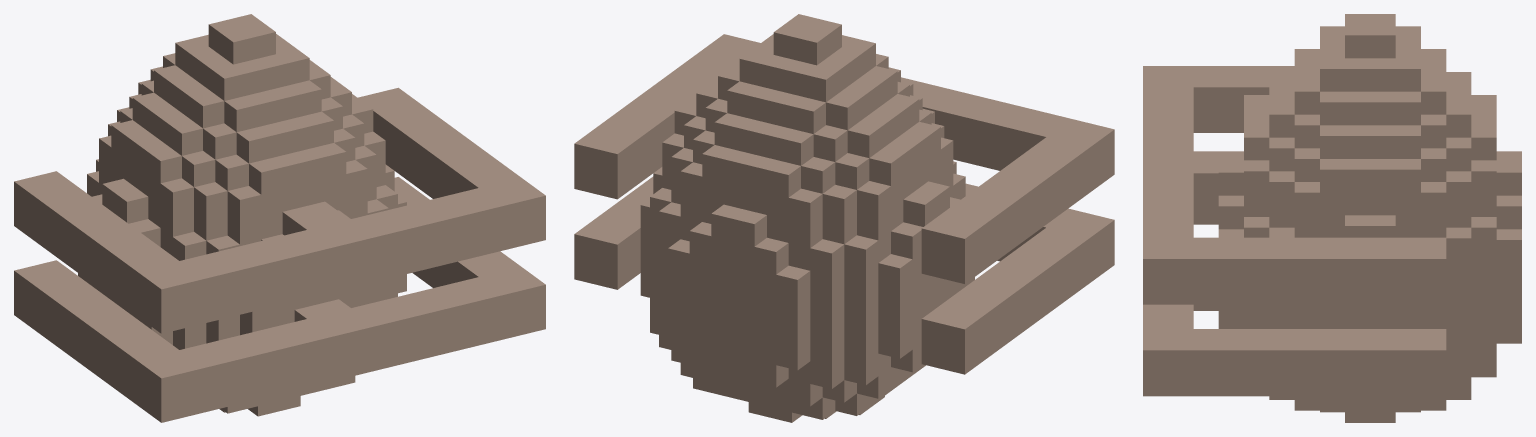
Rendered from Bone_Egg.glb.
The picture shows the model from 3 angles, left to right: view 1: azimuth 30°, elevation 25°; view 2: azimuth 150°, elevation 25°; view 3: azimuth 270°, elevation 25°; orthographic projection. The views are drawn at different scales.
Parts seen in each view (by area): view 1: Cube_copy_copy_copy_copy_copy_copy_copy_copy_copy_copy_copy_ (×47), Cube_copy_copy_copy_7 copy copy copy copy copy copy copy cop (×24), Cube_copy_copy_copy_copy_5 copy copy copy copy copy copy cop (×15), Cube_copy_copy_copy_copy_copy_copy_10 copy copy copy copy co (×15), Cube_copy_copy_copy_copy_copy_copy_copy_10 copy copy copy co (×12), Cube_copy_copy_copy_7 copy copy copy copy copy copy copy (×6), Cube_copy_copy_copy_7 copy copy copy copy copy copy (×4), Cube_copy_copy_copy_copy_5 copy copy copy copy copy copy (×4), Cube_copy_copy_copy_7 copy copy copy copy copy (×4), Cube_copy_copy_copy_copy_5 copy copy copy copy copy (×4), Cube_copy_copy_copy_copy_5 copy copy copy copy (×2), Cube_copy_copy_copy_7 copy copy copy copy (×2) (+14 smaller); view 2: Cube_copy_copy_copy_copy_copy_copy_copy_copy_copy_copy_copy_ (×64), Cube_copy_copy_copy_7 copy copy copy copy copy copy copy cop (×23), Cube_copy_copy_copy_copy_5 copy copy copy copy copy copy cop (×10), Cube_copy_copy_copy_copy_copy_copy_10 copy copy copy copy co (×5), Cube_copy_copy_copy_copy_copy_copy_copy_10 copy copy copy co (×5), Cube_copy_copy_copy_7 copy copy copy copy copy copy copy (×4), Cube_copy_copy_copy_7 copy copy copy copy copy copy (×2), Cube_copy_copy_4, Cube_copy_copy_copy_20, Cube_copy_copy_copy_copy_copy_17, Cube_copy_copy_copy_copy_copy_copy_copy_25, Cube_copy_copy_1 (+48 smaller); view 3: Cube_copy_copy_copy_copy_copy_copy_copy_copy_copy_copy_copy_ (×48), Cube_copy_copy_copy_7 copy copy copy copy copy copy copy cop (×23), Cube_copy_copy_copy_copy_copy_copy_10 copy copy copy copy co (×24), Cube_copy_copy_copy_copy_5 copy copy copy copy copy copy cop (×3), Cube_copy_copy_copy_copy_copy_copy_copy_10 copy copy copy co (×2), Cube_copy_copy_8, Cube_copy_copy_copy_copy_copy_copy_19, Cube_copy_copy_15, Cube_copy_copy_copy_7 copy copy copy copy copy copy copy, Cube_copy_copy_copy_7 copy copy copy, Cube_copy_copy_copy_copy_4, Cube_copy_copy_copy_copy_copy_copy_copy_copy_copy_copy_2 (+27 smaller).
Part boxes in pixels (x1,y1,x2,y2): Cube_copy_copy_copy_copy_copy_copy_copy_copy_copy_copy_copy_ (×47): (111, 19, 373, 338); Cube_copy_copy_copy_7 copy copy copy copy copy copy copy cop (×24): (14, 176, 545, 373); Cube_copy_copy_copy_copy_5 copy copy copy copy copy copy cop (×15): (170, 111, 524, 384); Cube_copy_copy_copy_copy_copy_copy_10 copy copy copy copy co (×15): (149, 218, 545, 422); Cube_copy_copy_copy_copy_copy_copy_copy_10 copy copy copy co (×12): (182, 223, 524, 417); Cube_copy_copy_copy_7 copy copy copy copy copy copy copy (×6): (124, 207, 545, 391); Cube_copy_copy_copy_7 copy copy copy copy copy copy (×4): (149, 218, 460, 400); Cube_copy_copy_copy_copy_5 copy copy copy copy copy copy (×4): (171, 223, 439, 395); Cube_copy_copy_copy_7 copy copy copy copy copy (×4): (234, 228, 418, 379); Cube_copy_copy_copy_copy_5 copy copy copy copy copy (×4): (256, 233, 396, 374); Cube_copy_copy_copy_copy_5 copy copy copy copy (×2): (298, 228, 374, 364); Cube_copy_copy_copy_7 copy copy copy copy (×2): (277, 234, 352, 369); Cube_copy_copy_copy_copy_copy_copy_copy_copy_copy_copy_copy_ (×64): (659, 19, 940, 419); Cube_copy_copy_copy_7 copy copy copy copy copy copy copy cop (×23): (574, 122, 1102, 351); Cube_copy_copy_copy_copy_5 copy copy copy copy copy copy cop (×10): (596, 107, 1036, 346); Cube_copy_copy_copy_copy_copy_copy_10 copy copy copy copy co (×5): (574, 144, 1003, 374); Cube_copy_copy_copy_copy_copy_copy_copy_10 copy copy copy co (×5): (596, 138, 981, 369); Cube_copy_copy_copy_7 copy copy copy copy copy copy copy (×4): (981, 112, 1114, 269); Cube_copy_copy_copy_7 copy copy copy copy copy copy (×2): (938, 101, 1114, 250); Cube_copy_copy_4: (878, 254, 912, 290); Cube_copy_copy_copy_20: (754, 237, 788, 274); Cube_copy_copy_copy_copy_copy_17: (776, 265, 810, 302); Cube_copy_copy_copy_copy_copy_copy_copy_25: (810, 239, 844, 275); Cube_copy_copy_1: (903, 190, 937, 226); Cube_copy_copy_copy_copy_copy_copy_copy_copy_copy_copy_copy_ (×48): (1244, 24, 1496, 364); Cube_copy_copy_copy_7 copy copy copy copy copy copy copy cop (×23): (1143, 248, 1446, 373); Cube_copy_copy_copy_copy_copy_copy_10 copy copy copy copy co (×24): (1143, 281, 1446, 396); Cube_copy_copy_copy_copy_5 copy copy copy copy copy copy cop (×3): (1193, 76, 1269, 110); Cube_copy_copy_copy_copy_copy_copy_copy_10 copy copy copy co (×2): (1193, 110, 1243, 132); Cube_copy_copy_8: (1218, 195, 1243, 229); Cube_copy_copy_copy_copy_copy_copy_19: (1446, 227, 1471, 261); Cube_copy_copy_15: (1496, 195, 1521, 229); Cube_copy_copy_copy_7 copy copy copy copy copy copy copy: (1143, 339, 1168, 373); Cube_copy_copy_copy_7 copy copy copy: (1193, 162, 1218, 196); Cube_copy_copy_copy_copy_4: (1218, 162, 1243, 195); Cube_copy_copy_copy_copy_copy_copy_copy_copy_copy_copy_2: (1244, 160, 1269, 193).
Size of the model in its own units: 1.81 by 1.6 by 1.5.
